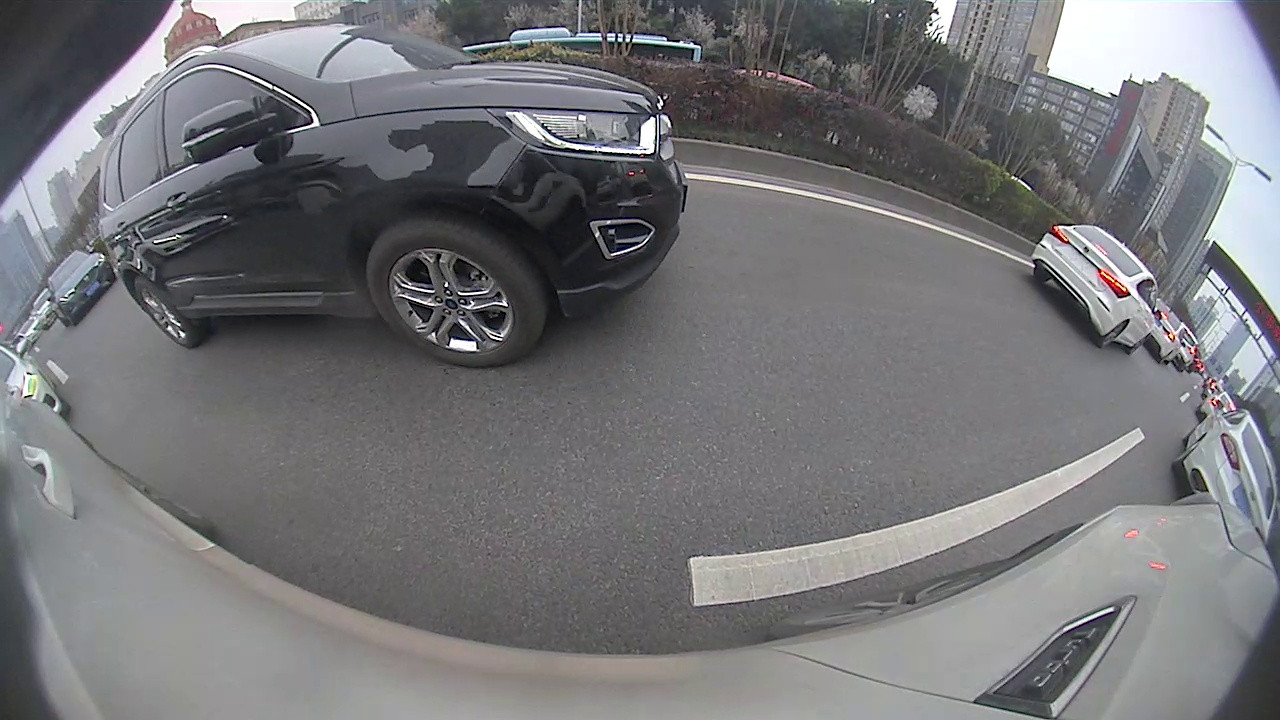car: (95, 20, 689, 370), (1030, 222, 1163, 353), (1169, 397, 1279, 543), (46, 249, 115, 331)
front: (367, 223, 544, 369)
rear: (132, 276, 195, 350), (1097, 320, 1130, 351)
